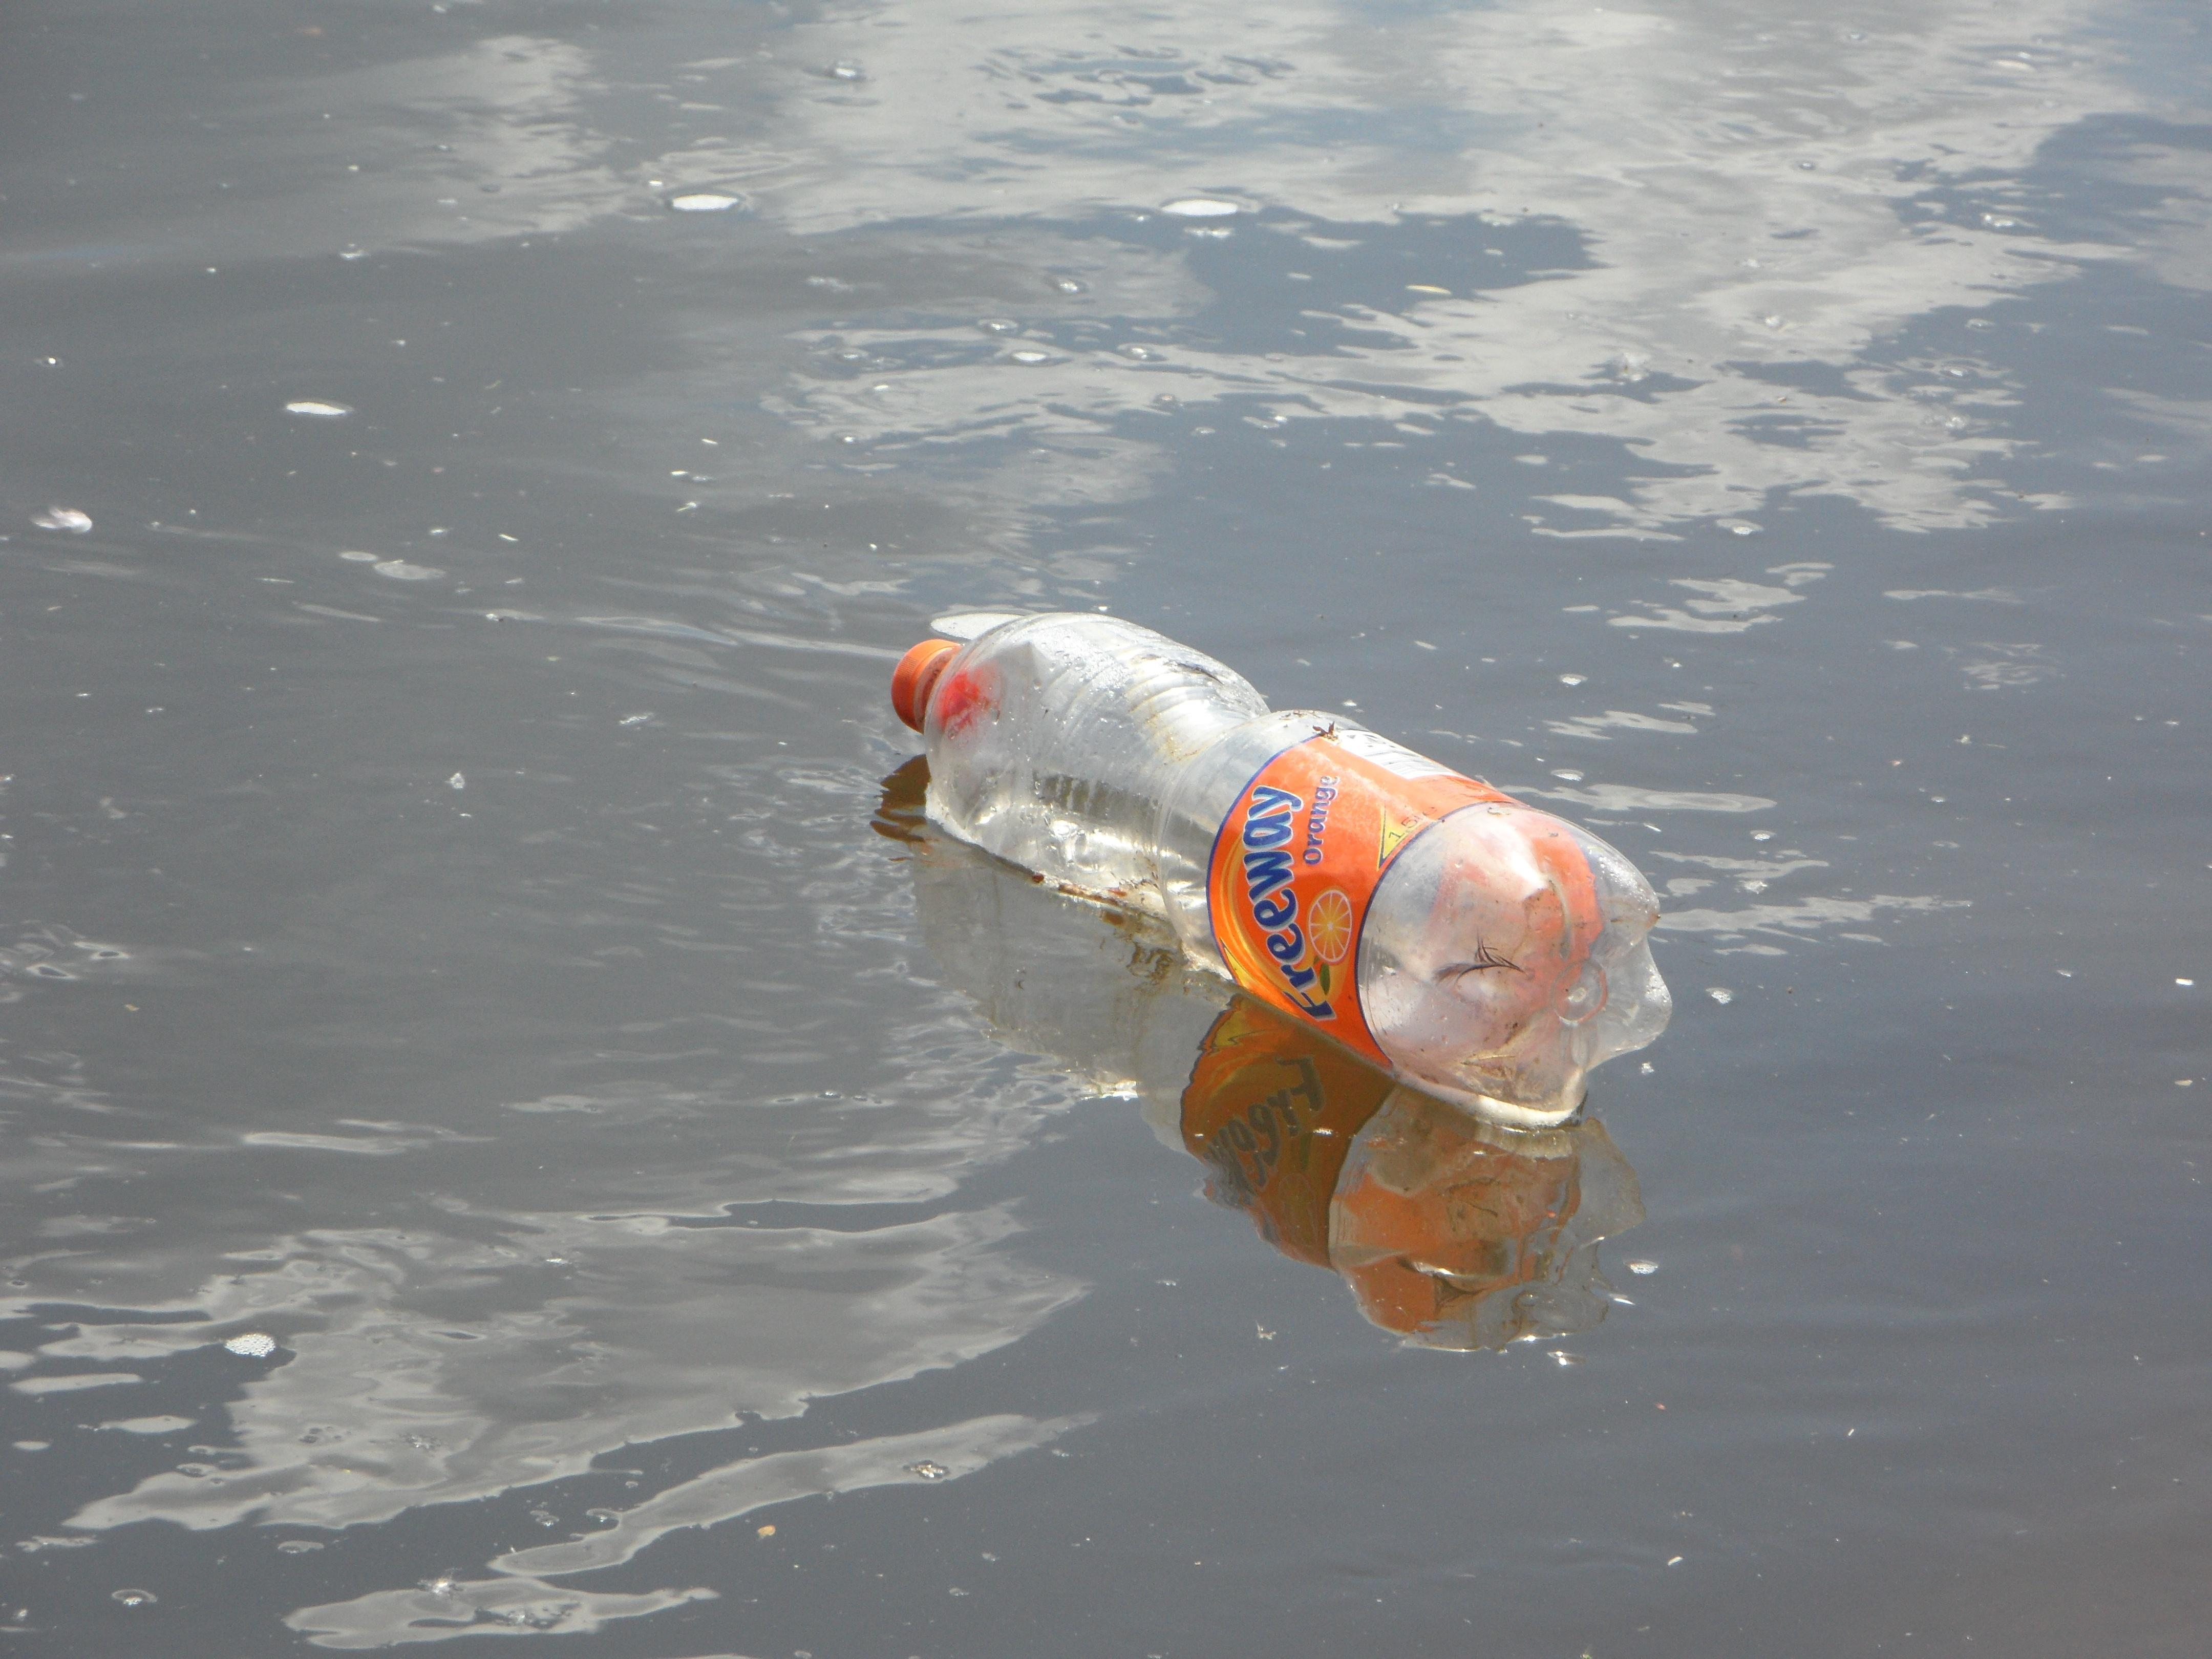bottle: (791, 493, 1710, 1223)
